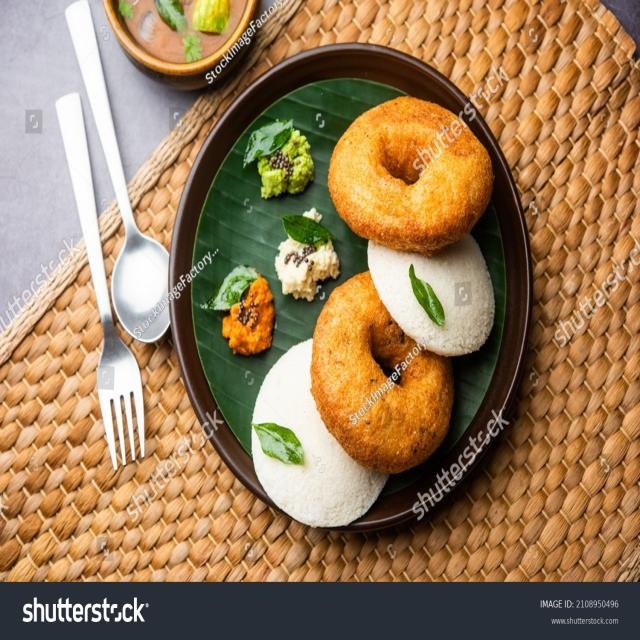IDLI: (252, 338, 389, 527), (367, 235, 495, 355)
MEDU VADA: (310, 271, 454, 473), (328, 97, 493, 255)
